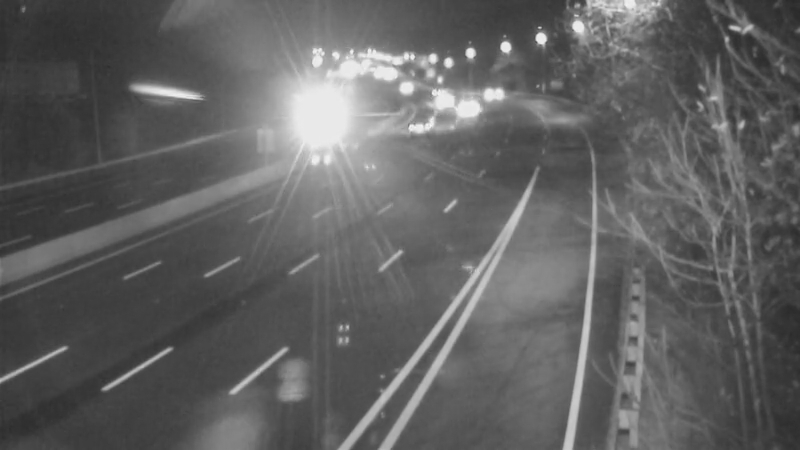vehicle: (381, 64, 431, 114), (418, 68, 468, 118), (467, 68, 517, 118), (415, 73, 465, 123), (445, 85, 495, 135), (389, 102, 439, 152), (292, 96, 342, 146)
